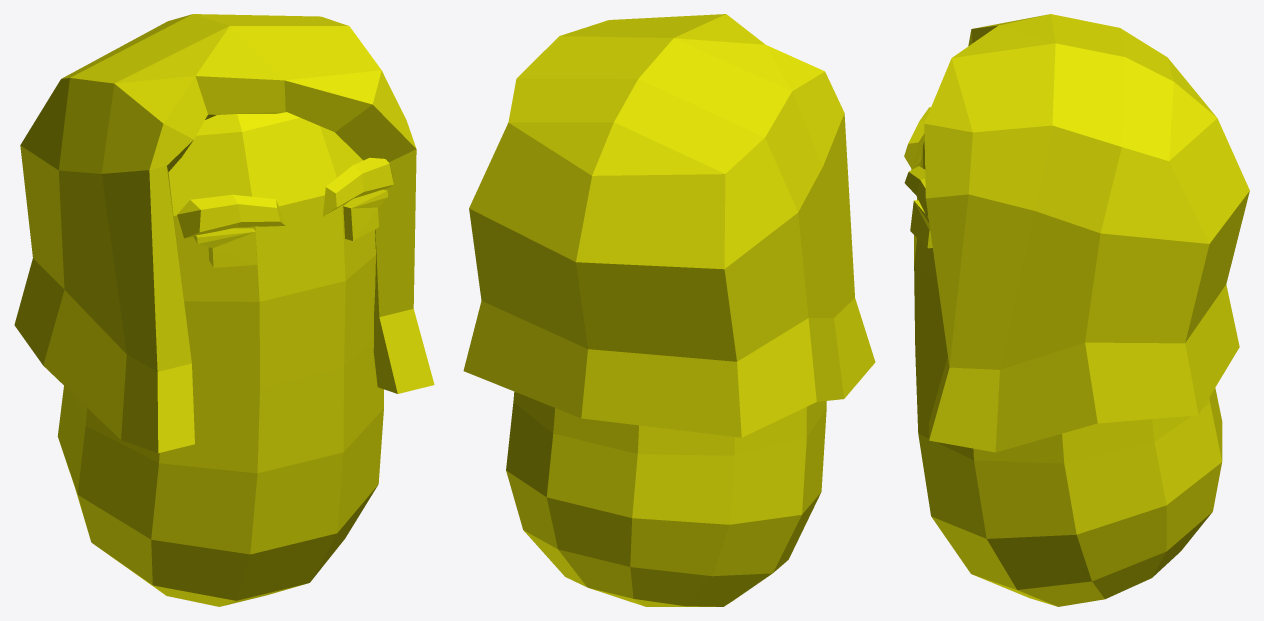
Rendered from SM_Bean_Female_01.glb.
The picture shows the model from 3 angles, left to right: view 1: azimuth 30°, elevation 25°; view 2: azimuth 150°, elevation 25°; view 3: azimuth 270°, elevation 25°; orthographic projection. The views are drawn at different scales.
Parts seen in each view (by area): view 1: SM_Bean_Female_01; view 2: SM_Bean_Female_01; view 3: SM_Bean_Female_01.
Boxes of the visible parts, left/top/right/bottom form: SM_Bean_Female_01: left=14, top=14, right=434, bottom=606; SM_Bean_Female_01: left=463, top=14, right=875, bottom=606; SM_Bean_Female_01: left=904, top=14, right=1249, bottom=606.
Bounding box in the file's own units: 1.06 × 1.72 × 0.9935.
Materials: 1 (1 with a texture image).
